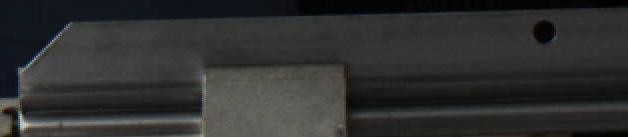cut: (14, 15, 176, 137)
holes: (531, 18, 557, 43)
